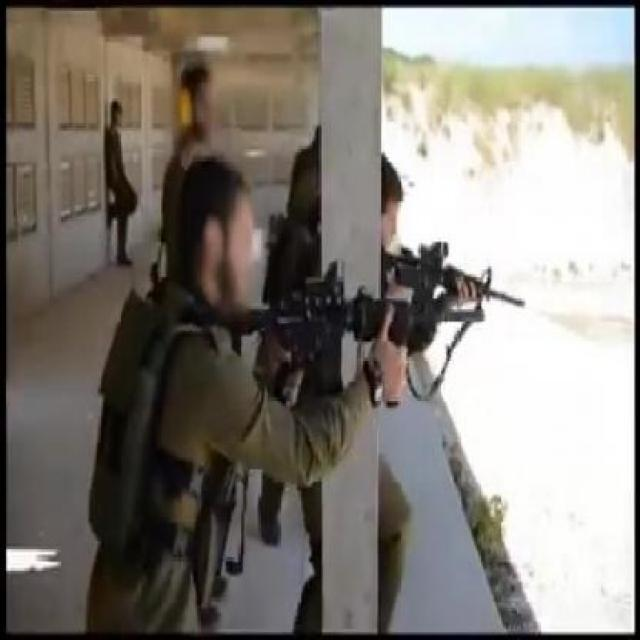Rifle: (244, 258, 486, 386)
